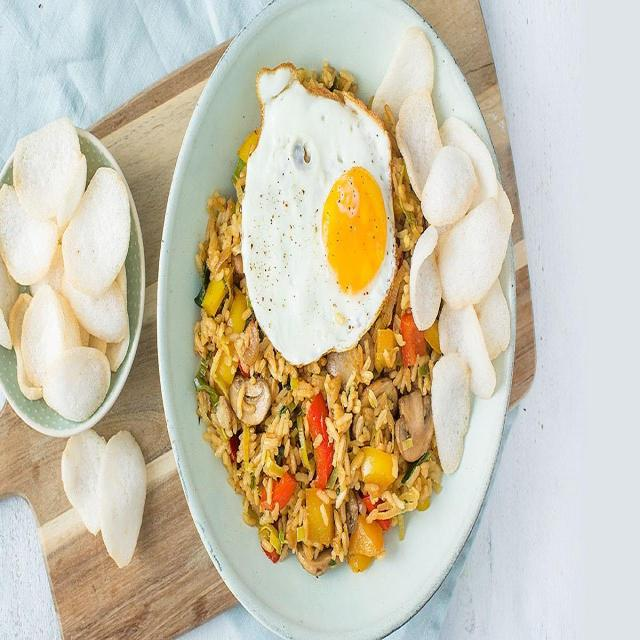Nasi Goreng: (180, 89, 460, 568)
